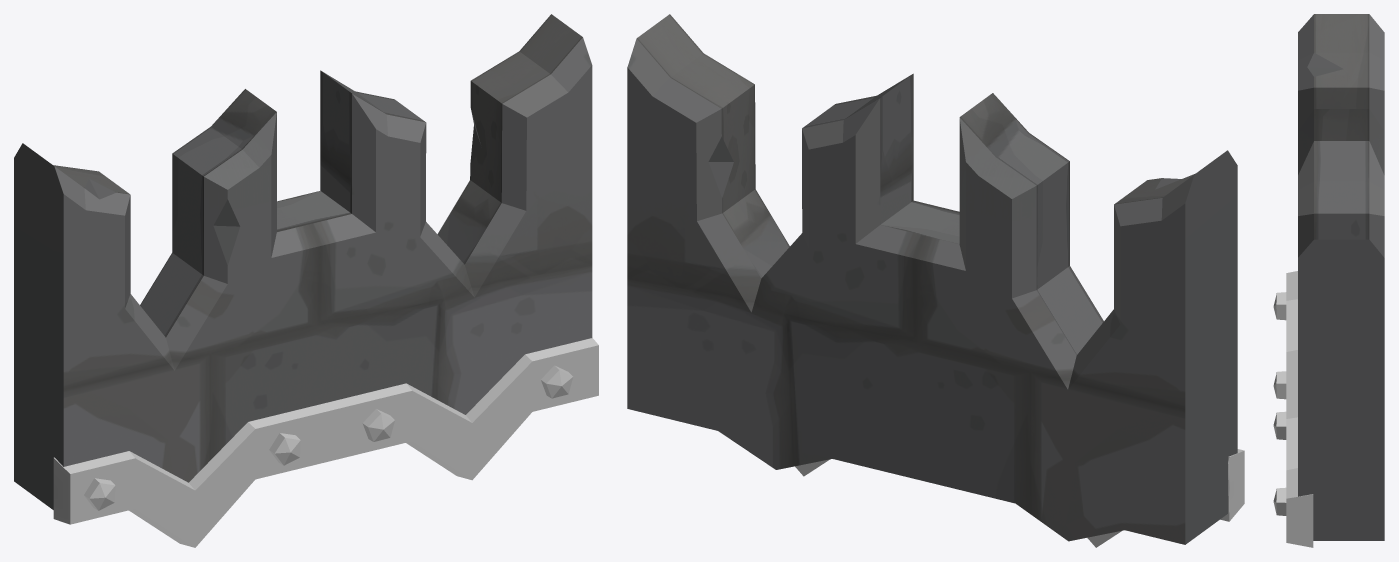
Rendered from SM_Bld_Battlements_Half_02.fbx.
3 renders of one model, left to right at view 1: azimuth 30°, elevation 25°; view 2: azimuth 150°, elevation 25°; view 3: azimuth 270°, elevation 25°, orthographic. The views are drawn at different scales.
Visible parts, largest first — view 1: SM_Bld_Battlements_Half_02; view 2: SM_Bld_Battlements_Half_02; view 3: SM_Bld_Battlements_Half_02.
Boxes of the visible parts, <box> form: SM_Bld_Battlements_Half_02: <box>14,14,598,547</box>; SM_Bld_Battlements_Half_02: <box>627,14,1244,547</box>; SM_Bld_Battlements_Half_02: <box>1273,14,1384,547</box>.
Bounding box in the file's own units: 246 × 181 × 50.96.
